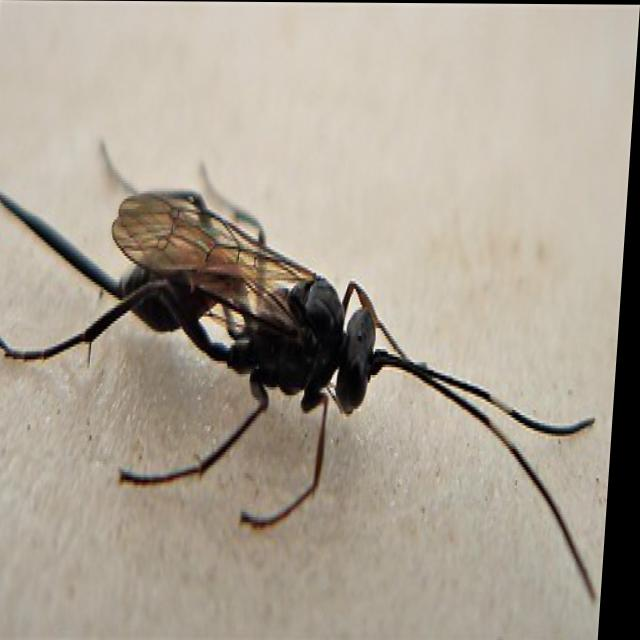Guepe: (0, 92, 631, 630)
